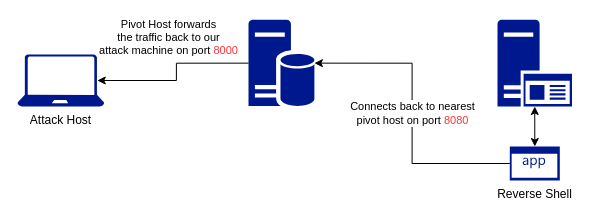
This 589x219 diagram has some shape labels left out. Each missing label, with the centre of its shape:
Pivot Host: pixel 281 62
Target Server: pixel 534 62
